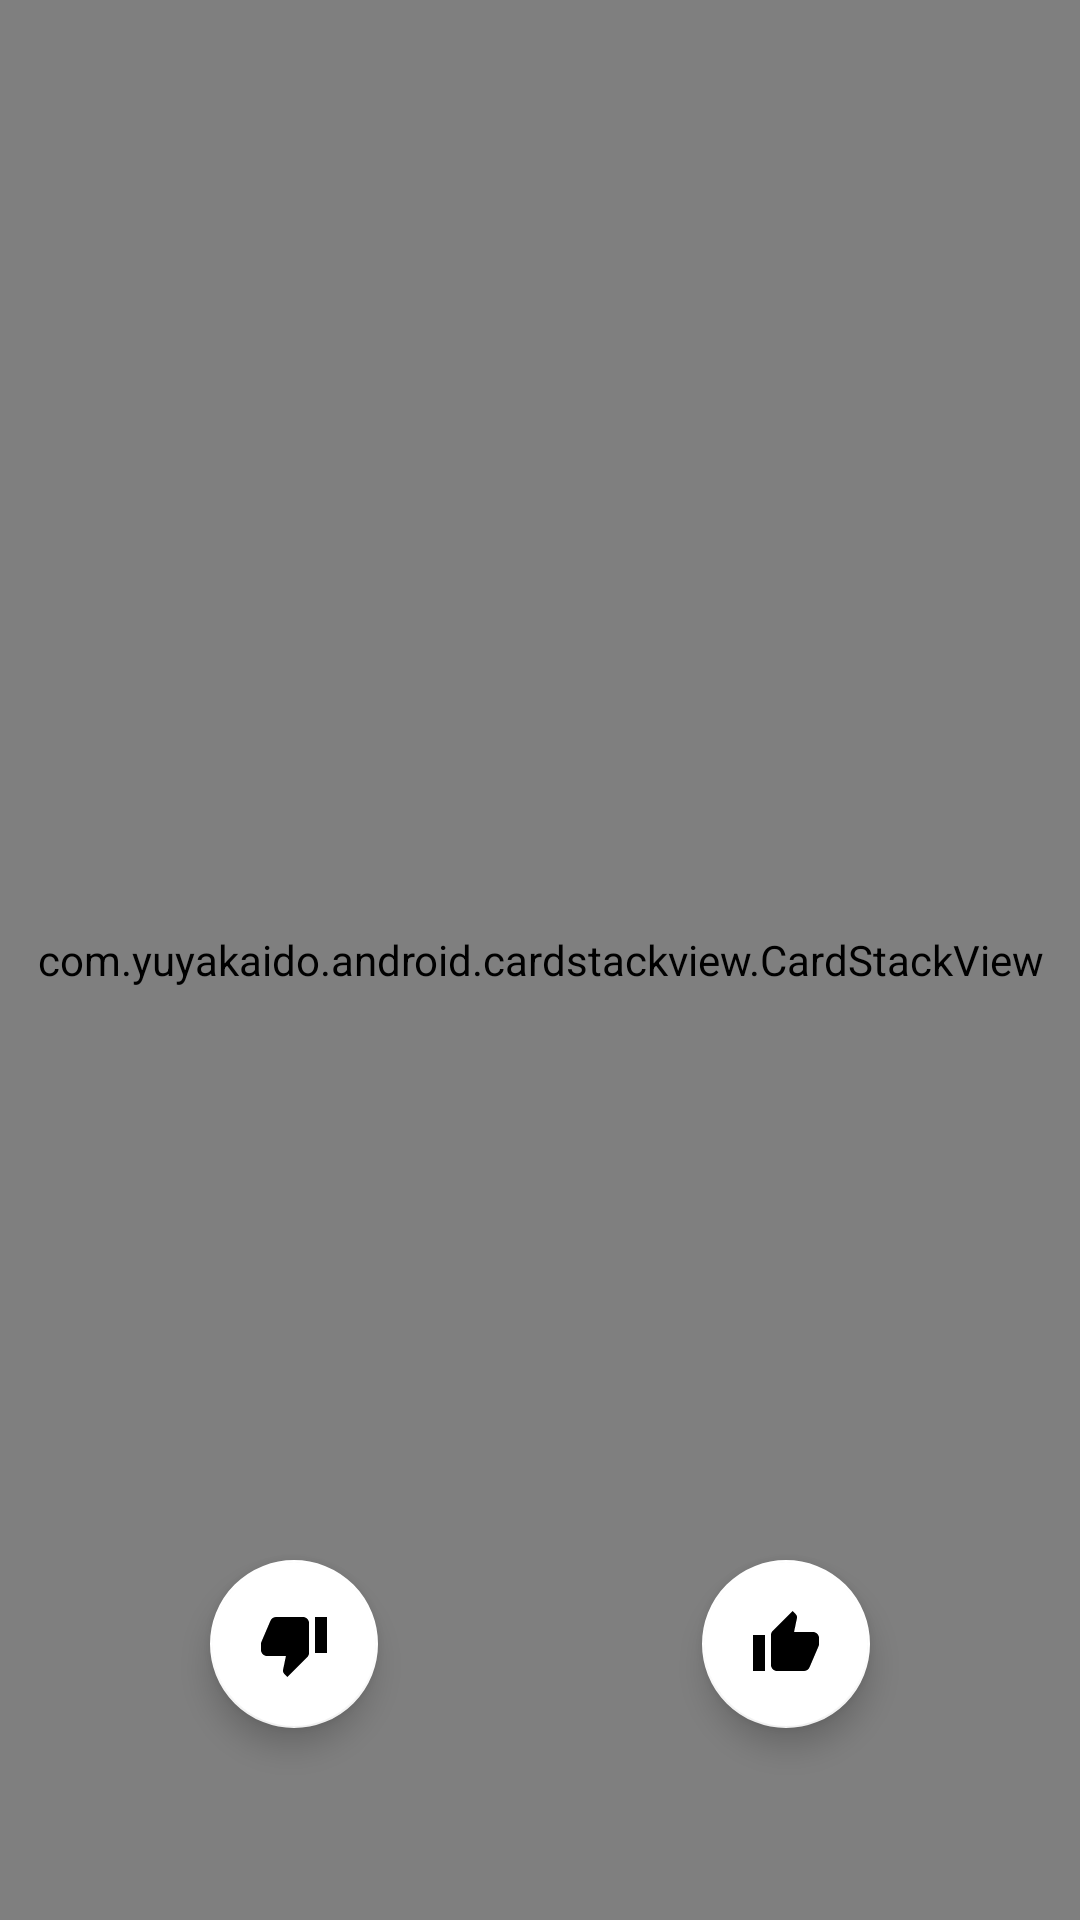

Named icons in this screenshot (1080×1920) and their bounding boxes, box(x1, y1, x2, y2):
dislike: box(210, 1560, 378, 1728)
like: box(702, 1560, 870, 1728)
